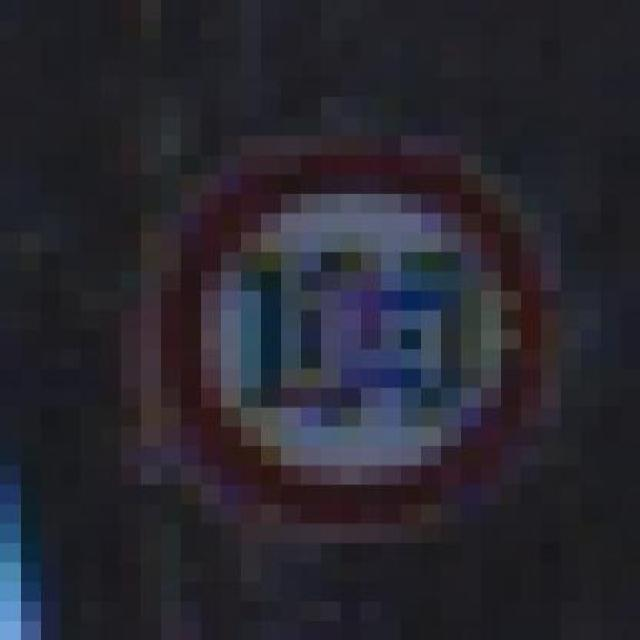forb_speed_over_100: (154, 151, 525, 528)
